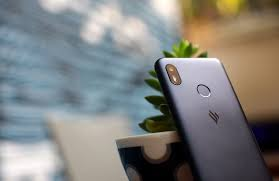vsmart: (154, 52, 269, 181)
